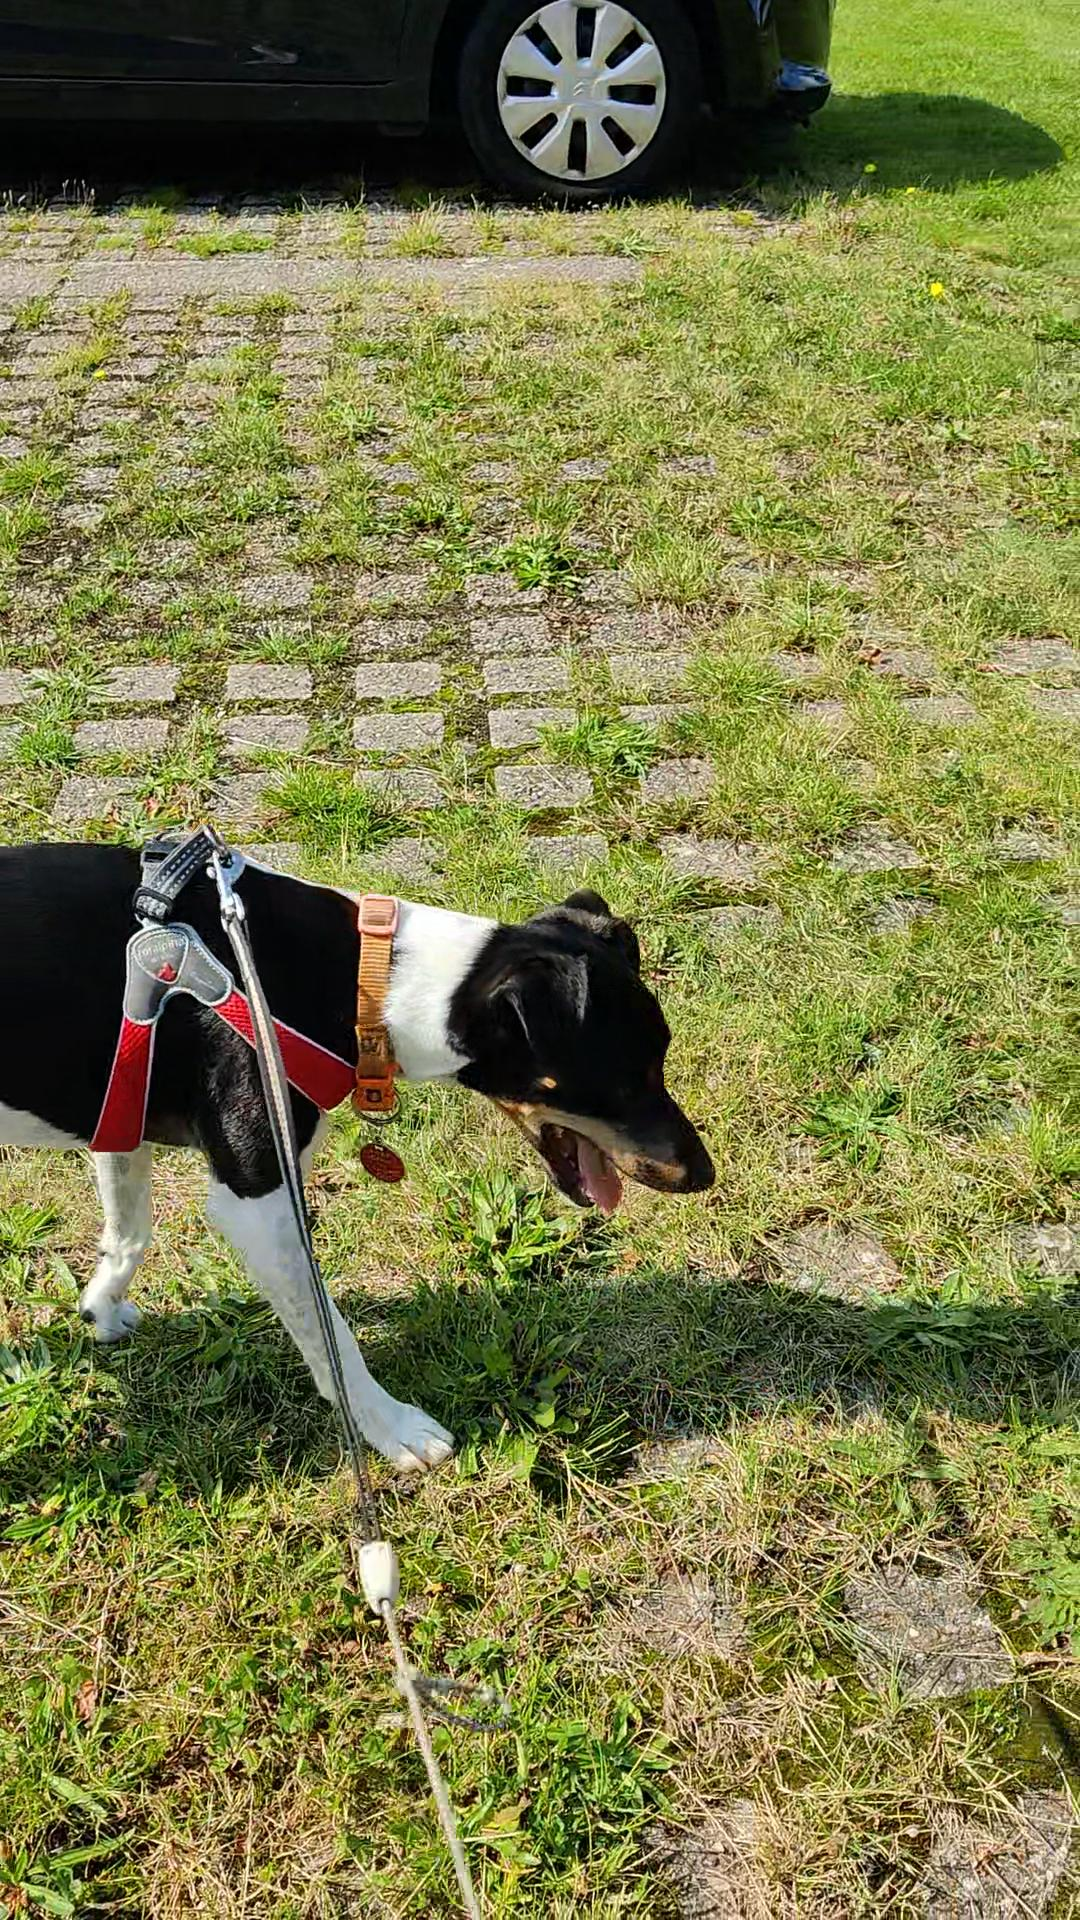Dog: (0, 825, 727, 1477)
